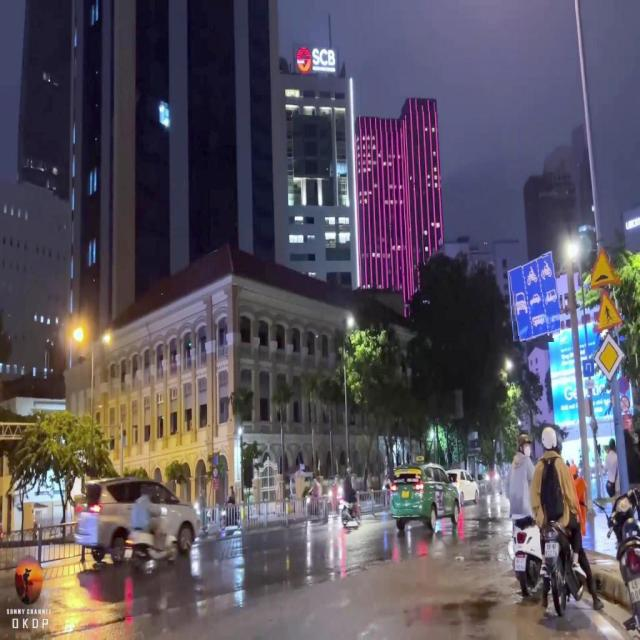cho_quay_xe: (583, 358, 594, 378)
chu_y_nguoi_di_bo_cat_ngang: (594, 291, 622, 333)
duong_co_song_map_mo_nhan_tao: (591, 247, 621, 289)
duong_uu_tien: (594, 335, 624, 381)
khac: (584, 381, 596, 389)
lan_duong_cho_tung_xe_theo_vach_ke_duong: (508, 253, 560, 342)
